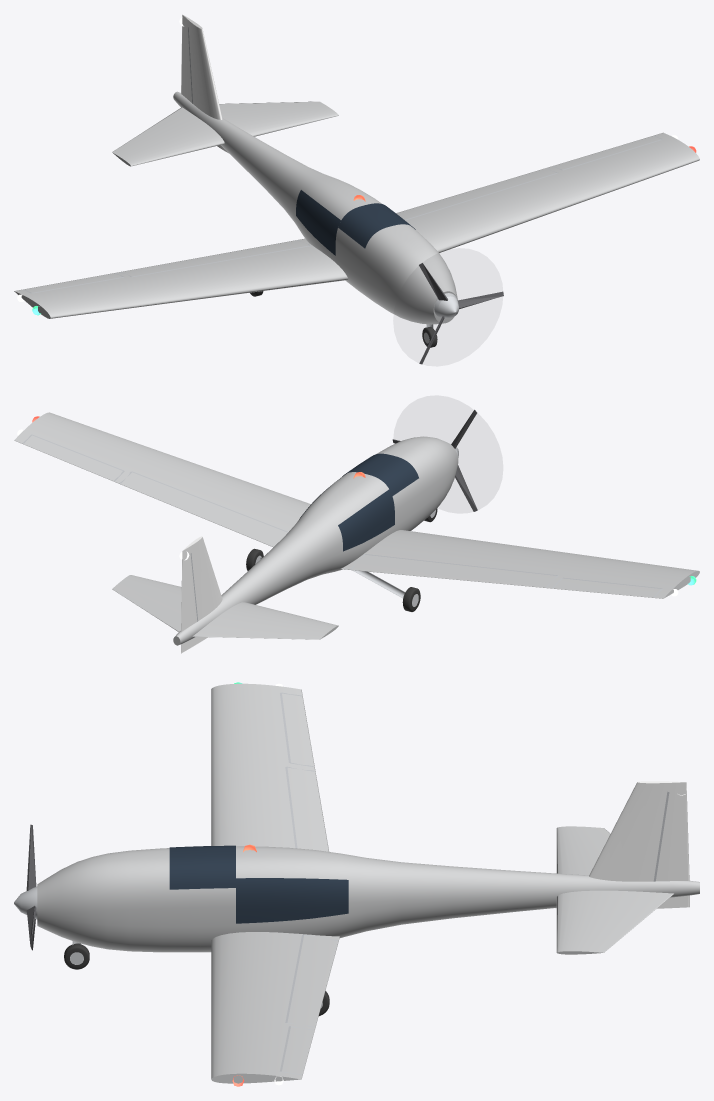
3 renders of one model, top to bottom at view 1: azimuth 30°, elevation 25°; view 2: azimuth 150°, elevation 25°; view 3: azimuth 270°, elevation 25°, orthographic. The views are drawn at different scales.
Visible parts, largest first — view 1: airframe, prop; view 2: airframe, gear, prop; view 3: airframe, gear, prop.
Boxes of the visible parts, x1,y1,x2,y2 form: airframe: (14,14,699,324); prop: (419,263,503,364); airframe: (14,412,699,653); gear: (246,508,437,611); prop: (392,409,477,511); airframe: (14,682,699,1086); gear: (64,941,329,1015); prop: (26,824,36,950).
Size of the model in its own units: 11.22 by 2.53 by 8.18.
